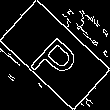P_NE: (25, 24, 85, 86)
